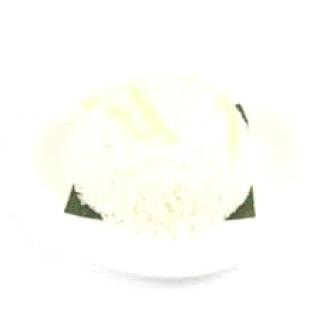Nasi: (67, 73, 257, 242)
